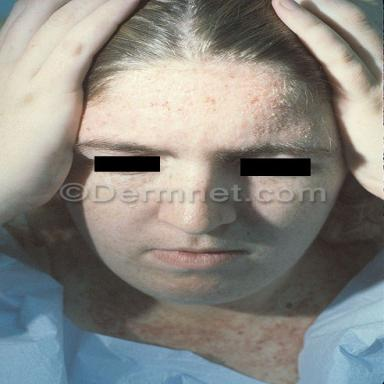Darier_s-Disease: (146, 77, 318, 144)
